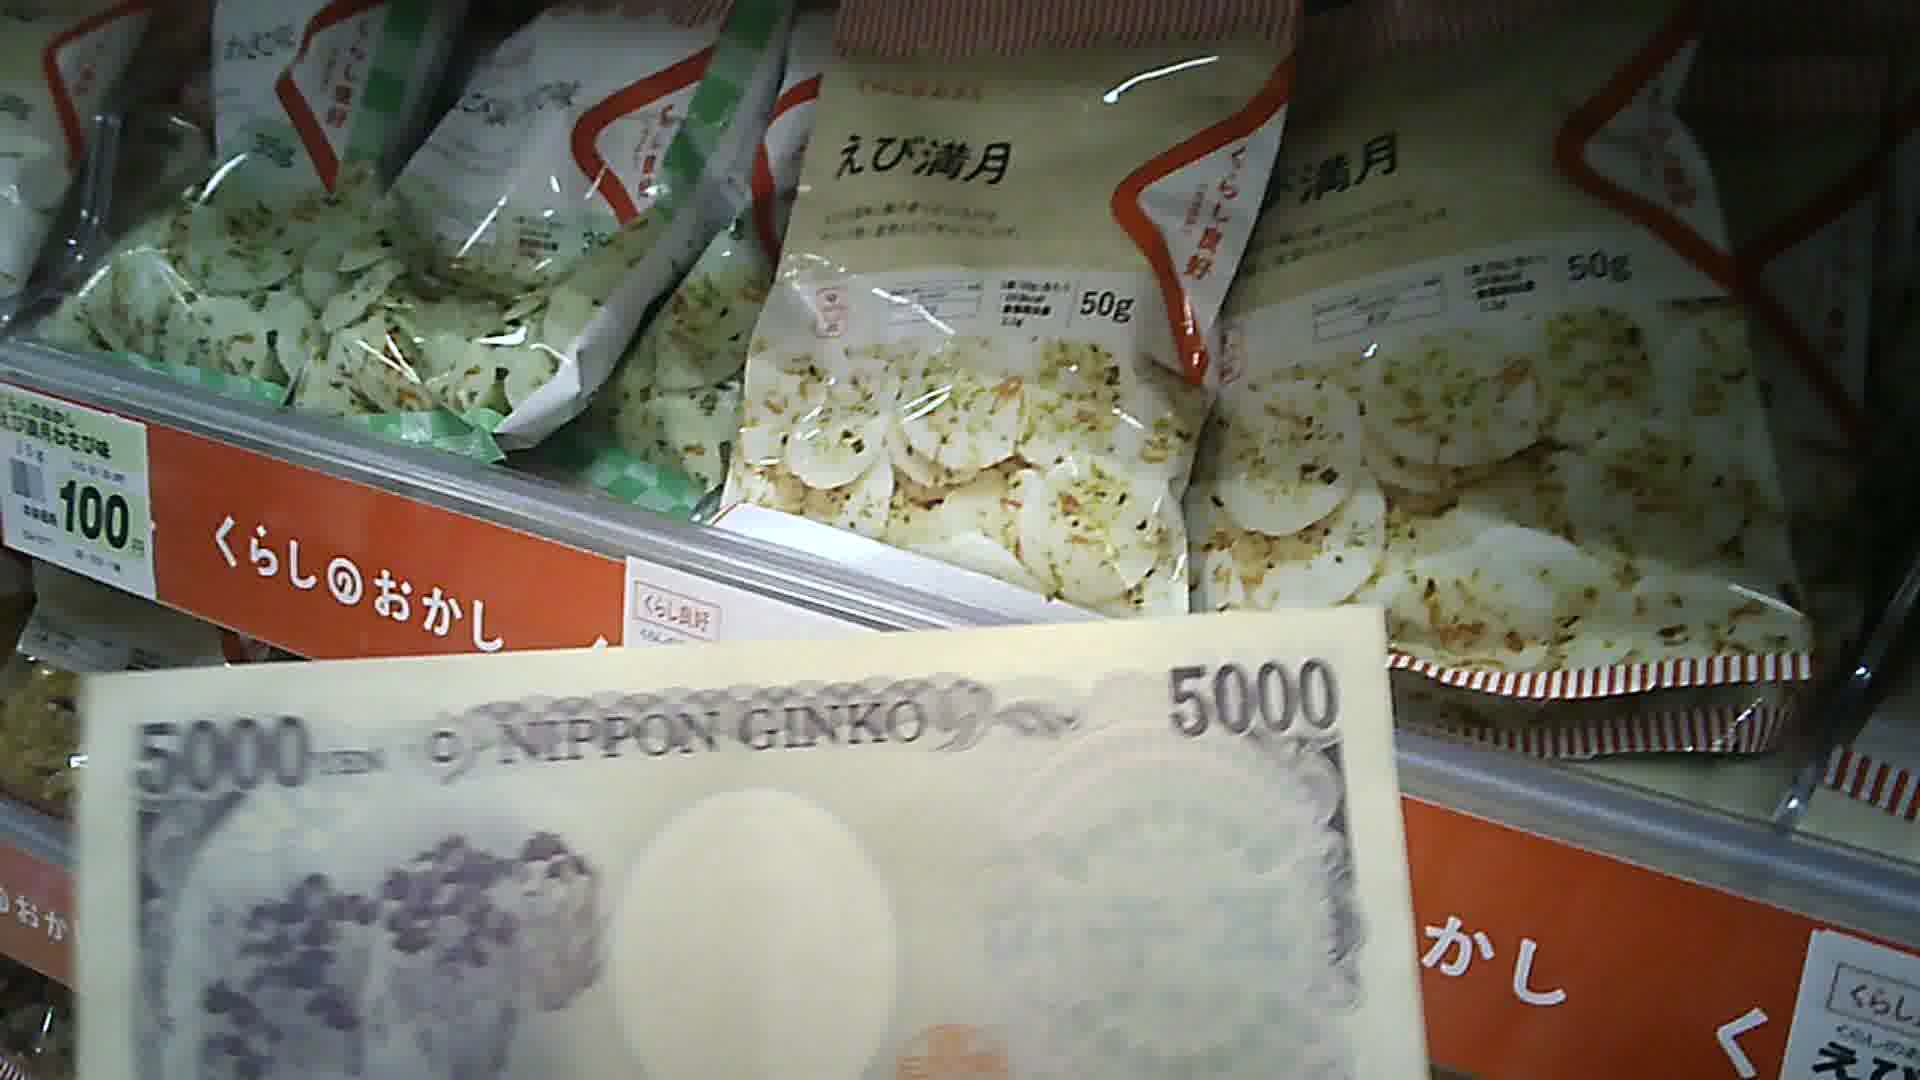5,000 Yen: (53, 612, 1441, 1073)
